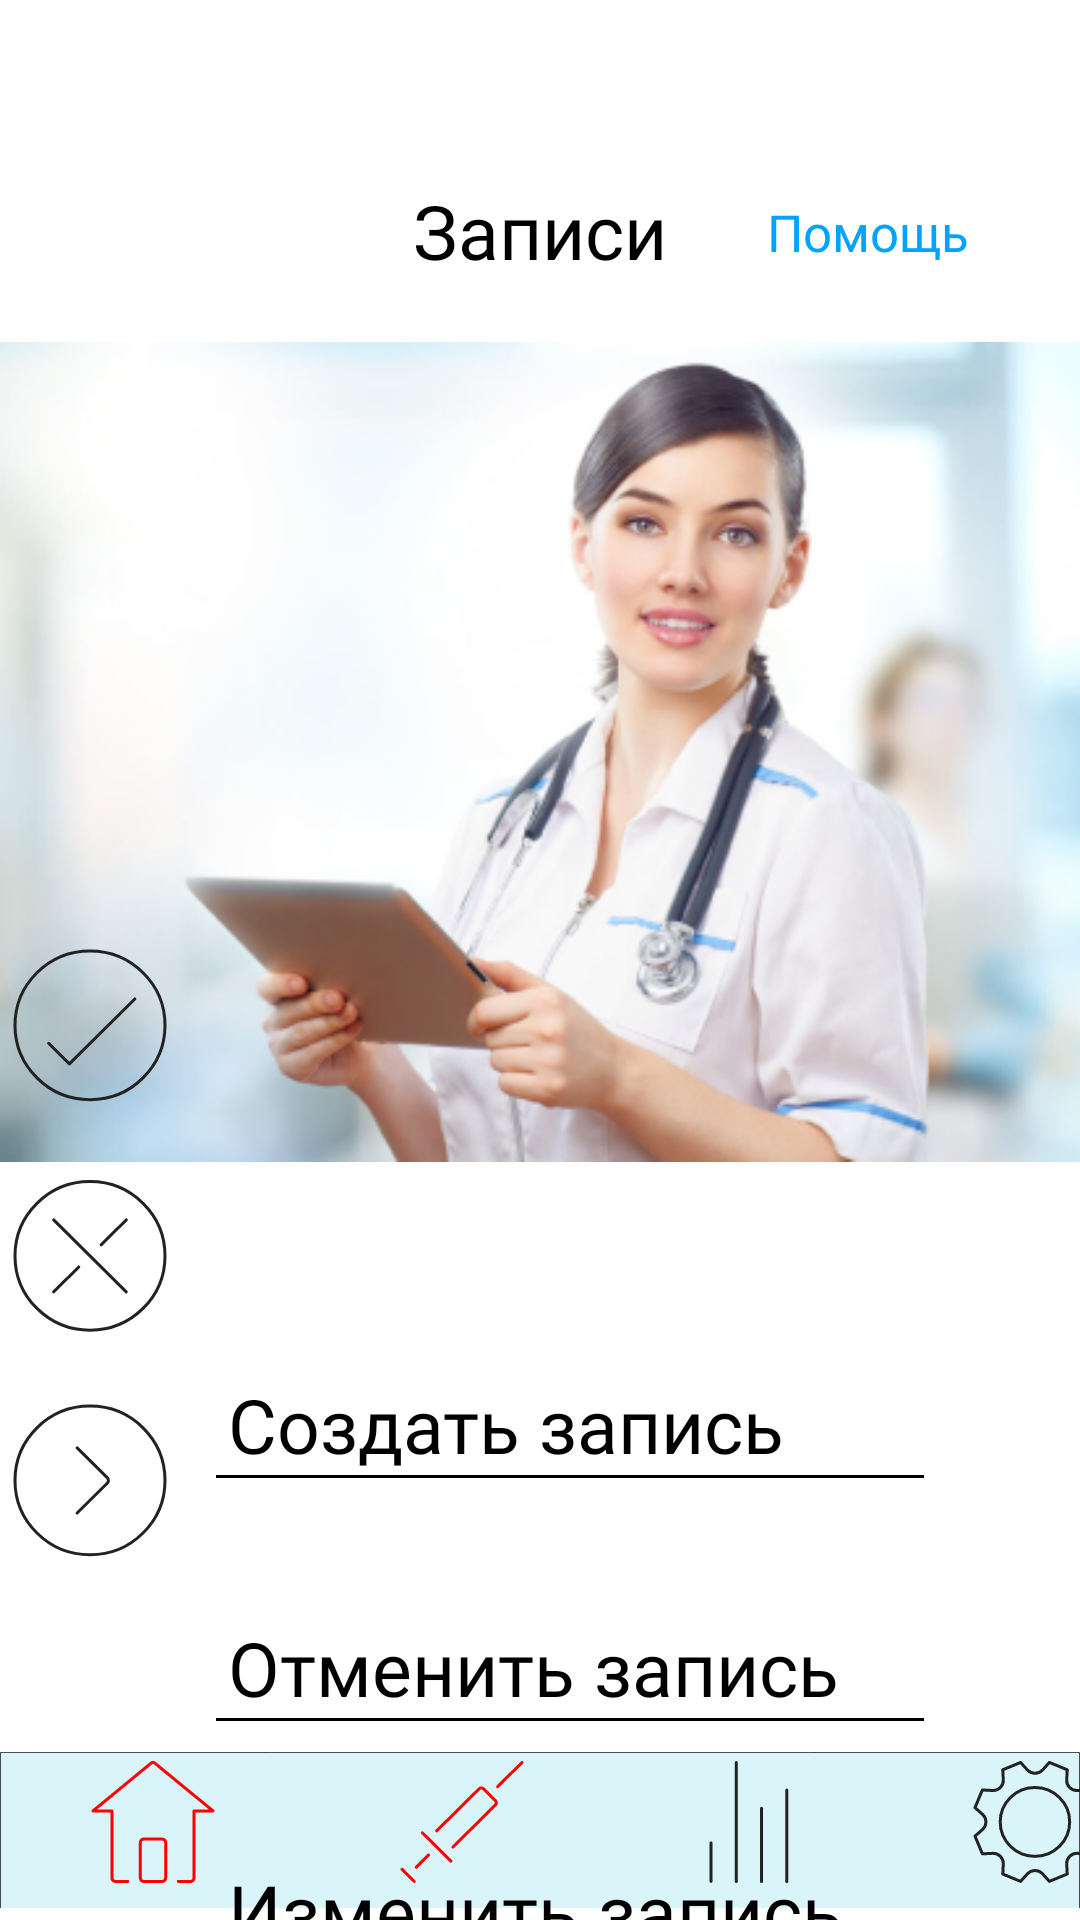

Point at icon controls on the screen. Image size 1080*1920, points as (x=x, y=y).
bar graph: (x=749, y=1822)
close: (x=90, y=1256)
correct: (x=90, y=1026)
forward arrow: (x=90, y=1480)
home: (x=153, y=1822)
vaccine: (x=462, y=1822)
